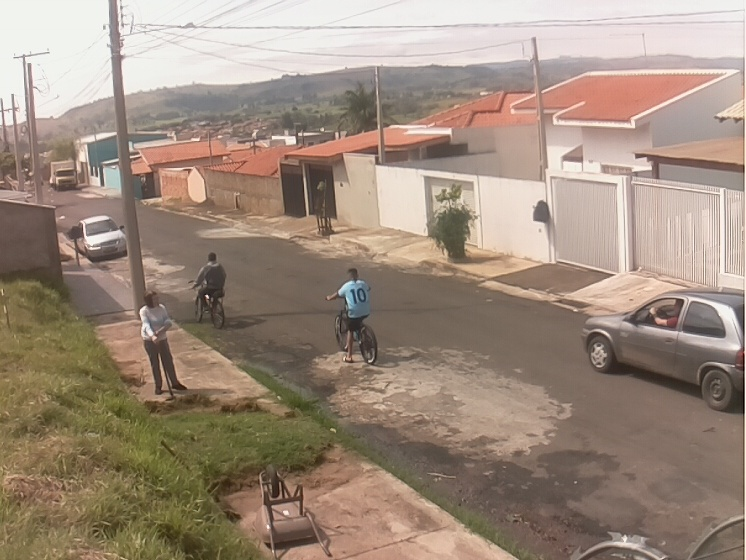person: (138, 290, 188, 395), (325, 267, 371, 363), (191, 252, 227, 308), (649, 298, 686, 330)
